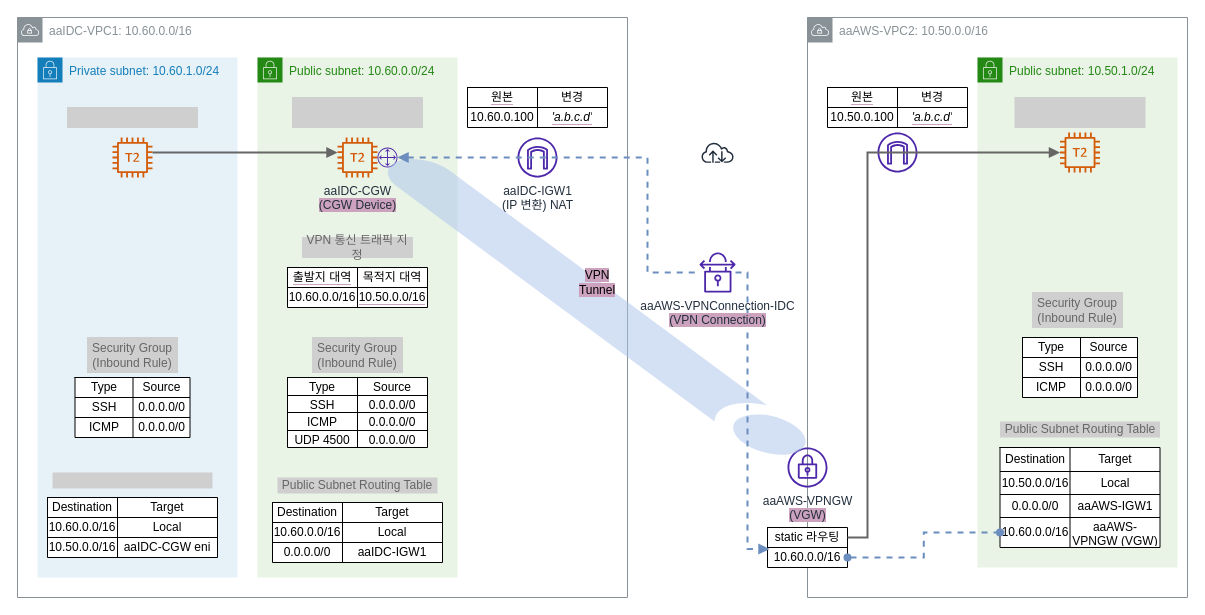
Image size: 1205x615. Some labels were removed from this diagram. The shapes that lost their labels are listed below. From the top down, each one's centre as x and y in pixels, then its label:
At point 132,117: "Private IP: 10.60.1.100".
At point 357,112: "Private IP: 10.60.0.100 EIP: 'a.b.c.d'".
At point 1079,112: "Private IP: 10.50.1.100 EIP: 'a.b.c.d'".
At point 132,157: "aaIDC-EC2".
At point 717,152: "Internet".
At point 897,152: "aaAWS-IGW1 (IP 변환) NAT".
At point 1080,152: "aaAWS-EC2".
At point 132,480: "Private Subnet Routing Table".
